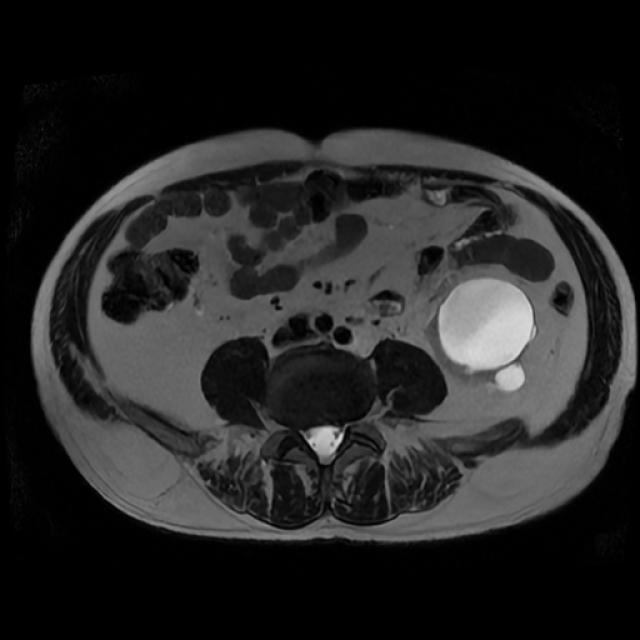sol: (428, 279, 538, 392)
